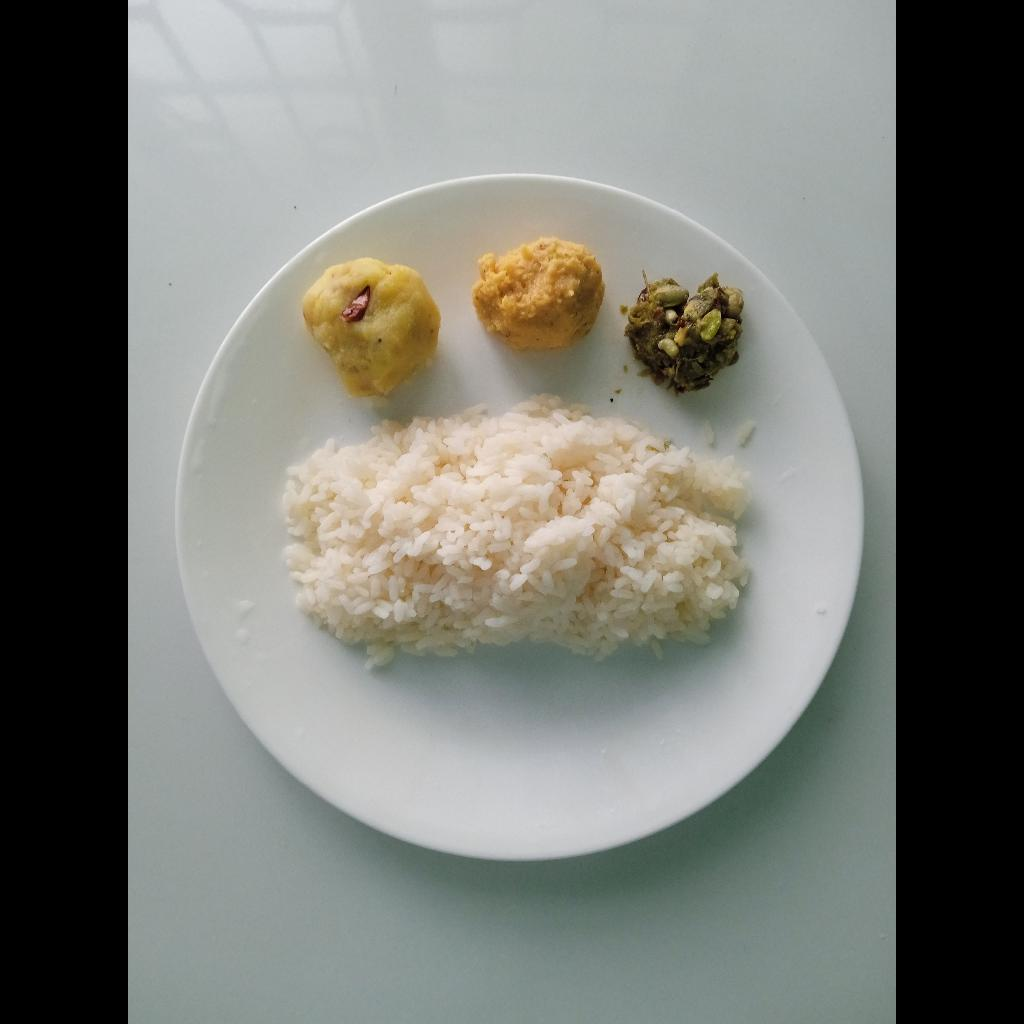daal: (474, 234, 604, 345)
potato-mashed: (294, 260, 438, 398)
rice: (294, 407, 749, 657)
vorta: (627, 279, 742, 383)
